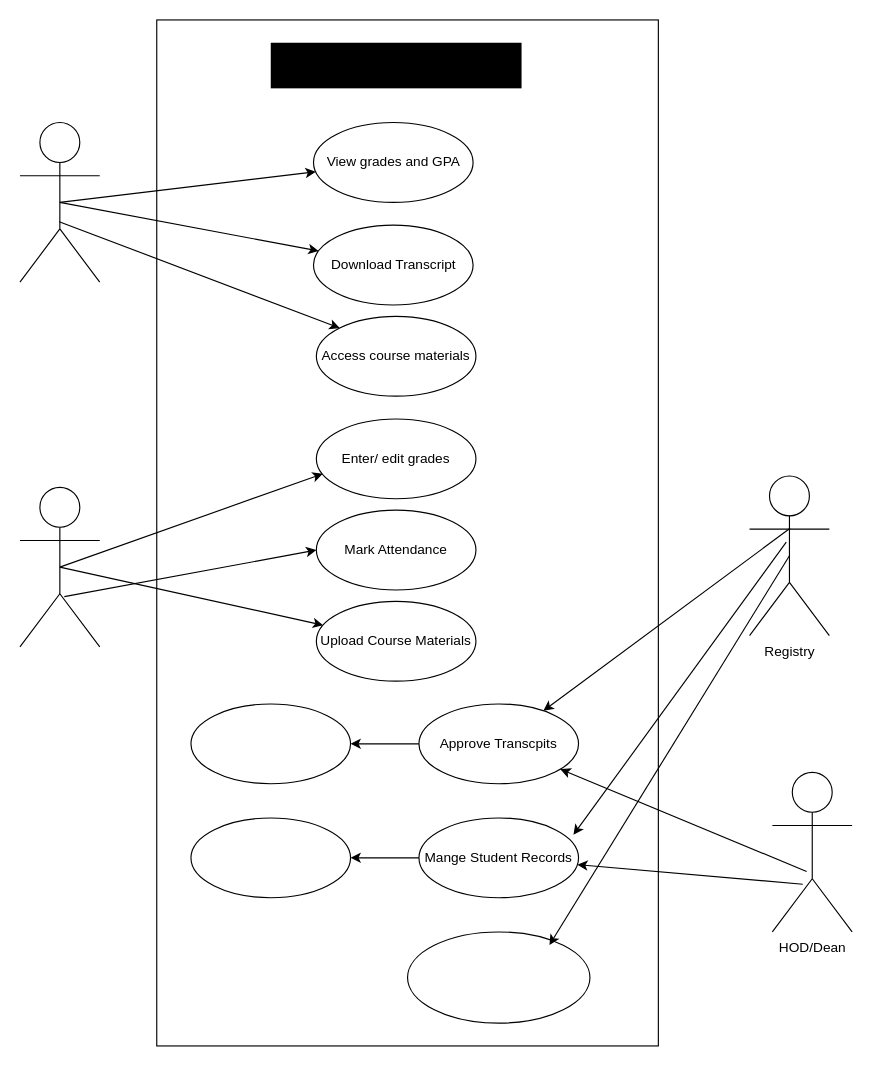
This 872x1066 diagram has some shape labels left out. Each missing label, with the centre of its shape:
Dept Reports: the point at 270,743
Lecturer: the point at 59,566
Lecturer Status: the point at 270,857
Manges courses & semesters: the point at 498,977
Student: the point at 59,201
